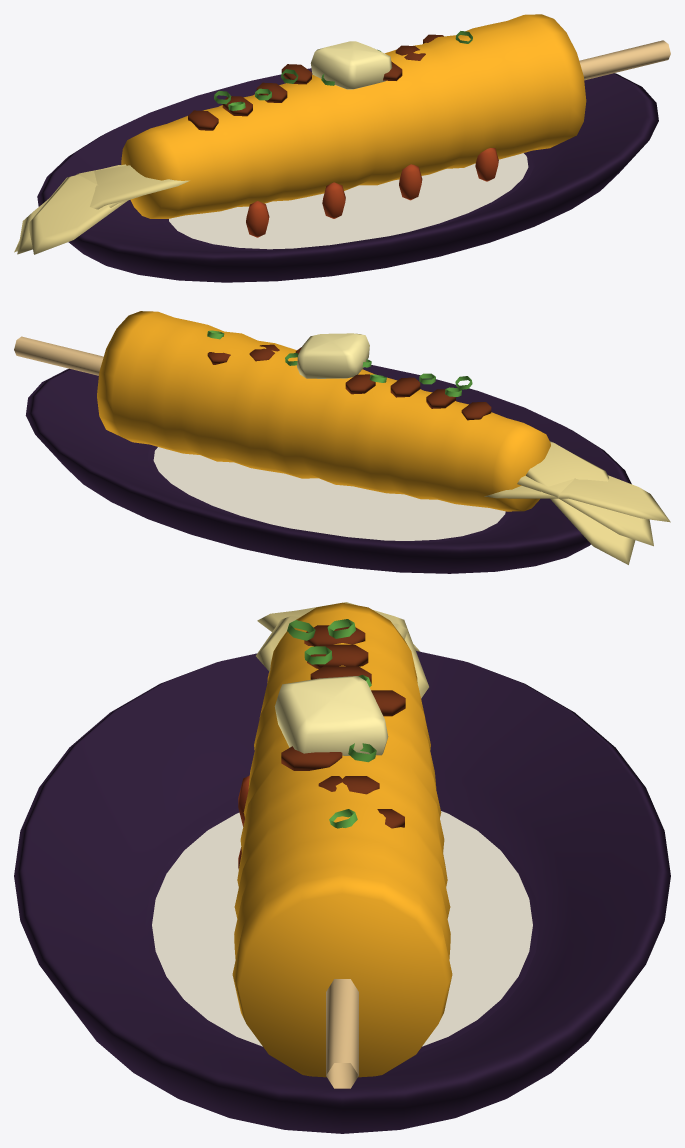
3 renders of one model, top to bottom at view 1: azimuth 30°, elevation 25°; view 2: azimuth 150°, elevation 25°; view 3: azimuth 270°, elevation 25°, orthographic. The views are drawn at different scales.
Parts seen in each view (by area): view 1: corn, plate, plate_well, husk, butter, glaze_drips, char, stick, scallion; view 2: corn, plate, plate_well, husk, butter, char, stick, scallion; view 3: plate, corn, plate_well, butter, char, stick, scallion, husk.
Part boxes in pixels (x1,y1,x2,y2): corn: (121, 14, 586, 218); plate: (37, 68, 658, 282); plate_well: (169, 153, 528, 249); husk: (14, 164, 189, 254); butter: (310, 41, 392, 89); glaze_drips: (246, 148, 498, 237); char: (188, 34, 443, 130); stick: (579, 40, 670, 80); scallion: (214, 31, 472, 110); corn: (97, 311, 550, 511); plate: (25, 365, 631, 573); plate_well: (153, 447, 505, 540); husk: (484, 441, 670, 564); butter: (297, 333, 369, 378); char: (207, 344, 491, 420); stick: (14, 336, 103, 375); scallion: (207, 330, 472, 396); plate: (14, 651, 670, 1133); corn: (232, 602, 452, 1077); plate_well: (152, 811, 532, 1046); butter: (274, 676, 388, 755); char: (281, 625, 405, 828); stick: (326, 979, 358, 1088); scallion: (287, 619, 376, 828); husk: (256, 602, 428, 698).
Bounding box in the file's own units: 0.2205 × 0.0547 × 0.12.
